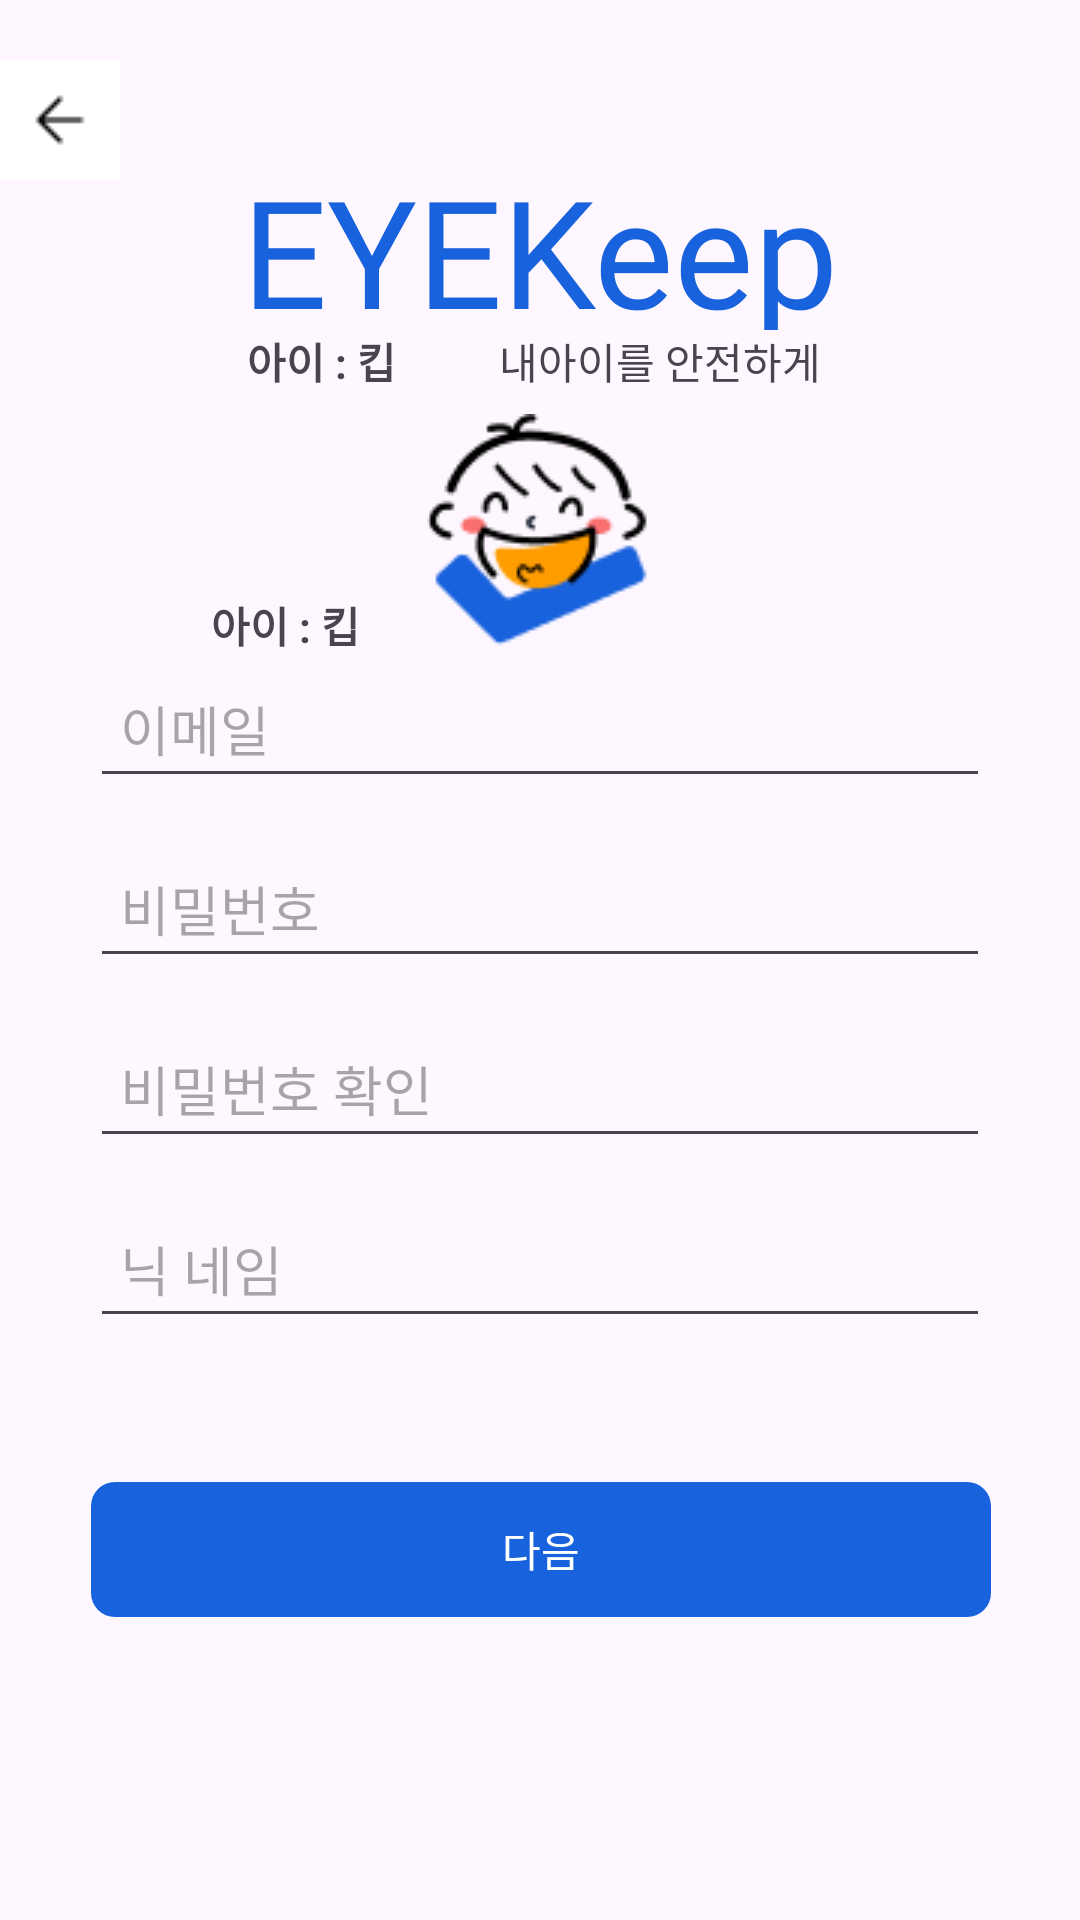

Named icons in this screenshot (1080 × 1920) and their bounding boxes, (x1, y1, x2, y2):
go back: (35, 95, 85, 145)
